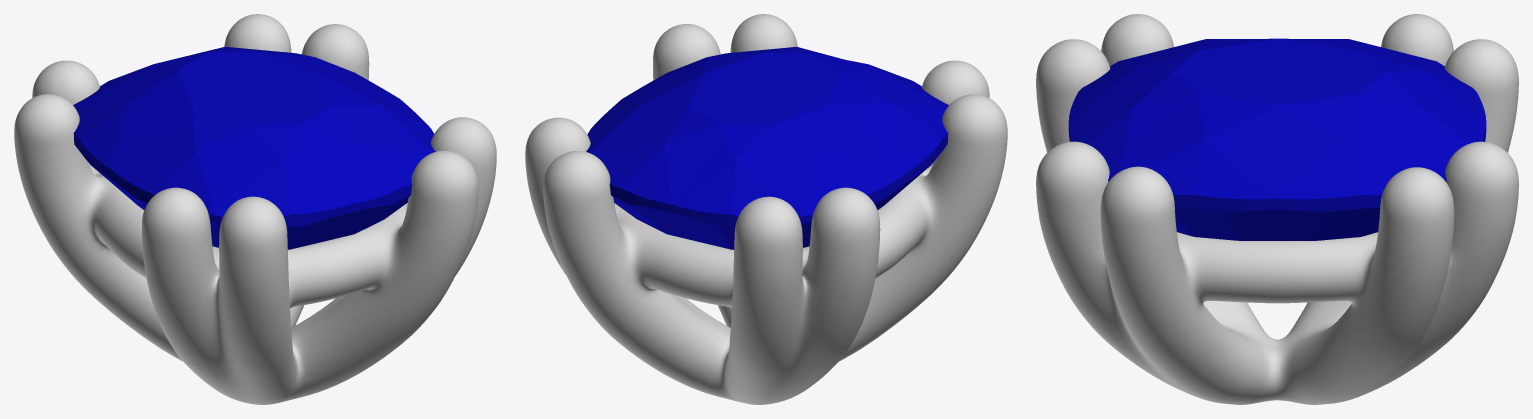
The model's file is Cushion.glb.
3 views of the same model, side by side, from view 1: azimuth 30°, elevation 25°; view 2: azimuth 150°, elevation 25°; view 3: azimuth 270°, elevation 25° (orthographic). The views are drawn at different scales.
Parts seen in each view (by area): view 1: /GSMOD388300- DOUBLE PRONG_CUSHION_IJ.3dm, Diamond_Cushion; view 2: /GSMOD388300- DOUBLE PRONG_CUSHION_IJ.3dm, Diamond_Cushion; view 3: /GSMOD388300- DOUBLE PRONG_CUSHION_IJ.3dm, Diamond_Cushion.
Part boxes in pixels (x1,y1,x2,y2): /GSMOD388300- DOUBLE PRONG_CUSHION_IJ.3dm: (14,14,496,404); Diamond_Cushion: (73,46,435,249); /GSMOD388300- DOUBLE PRONG_CUSHION_IJ.3dm: (525,14,1007,404); Diamond_Cushion: (586,47,948,249); /GSMOD388300- DOUBLE PRONG_CUSHION_IJ.3dm: (1036,14,1518,404); Diamond_Cushion: (1068,38,1486,240).
Bounding box in the file's own units: 7.82 × 6.46 × 8.65.
